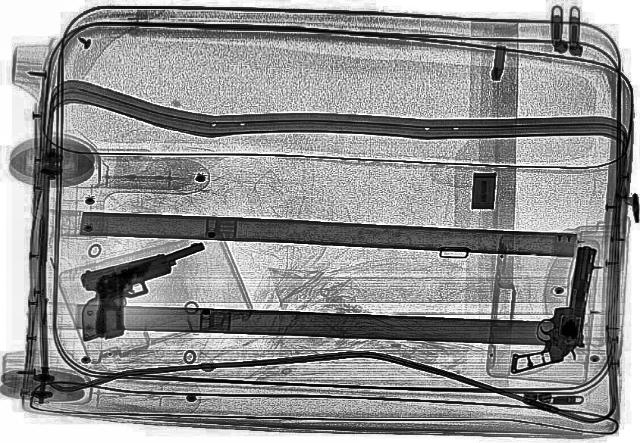Gun: (66, 242, 240, 338), (510, 245, 594, 371)
